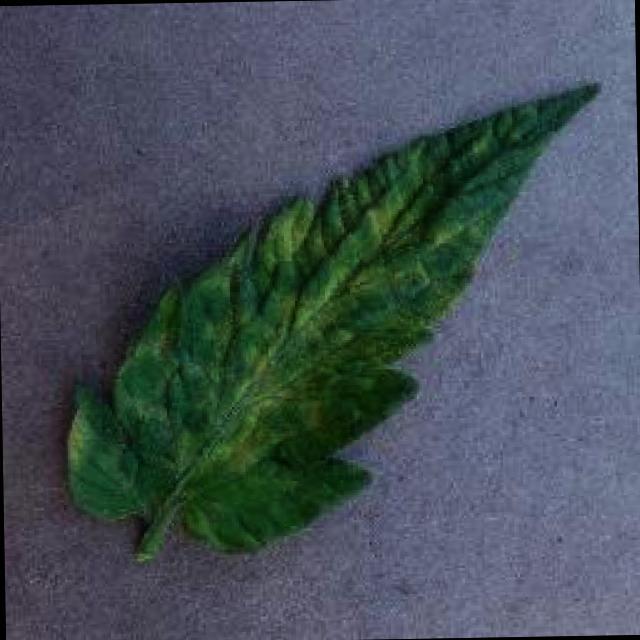Tomato mold leaf: (56, 77, 610, 558)
